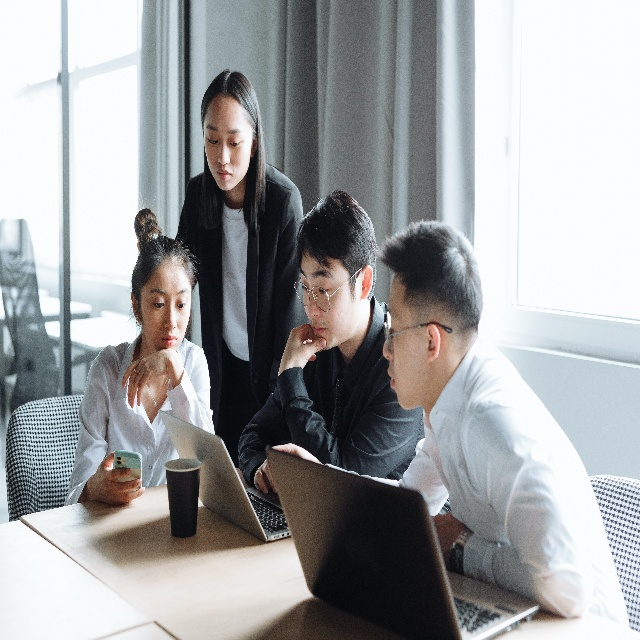Gafas: (294, 265, 365, 312), (381, 316, 452, 354)
Sin_guantes: (89, 450, 146, 506), (121, 348, 171, 411), (276, 323, 328, 378), (254, 455, 278, 496)
